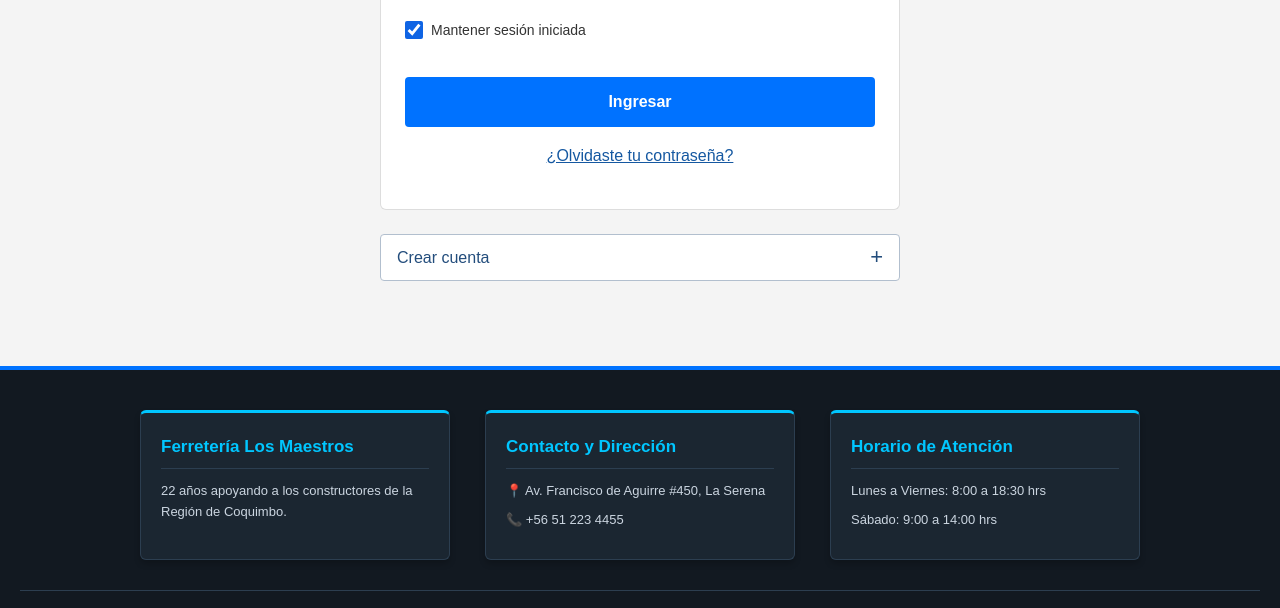
el menú público solo muestra las cinco secciones y Mi cuenta reúne ingreso y registro
(page scrolled)
expect the heading "Registrar cuenta" is not shown: met
Click the button "Crear cuenta +". click: [443, 257]
box: [380,234,900,281]
(page scrolled)
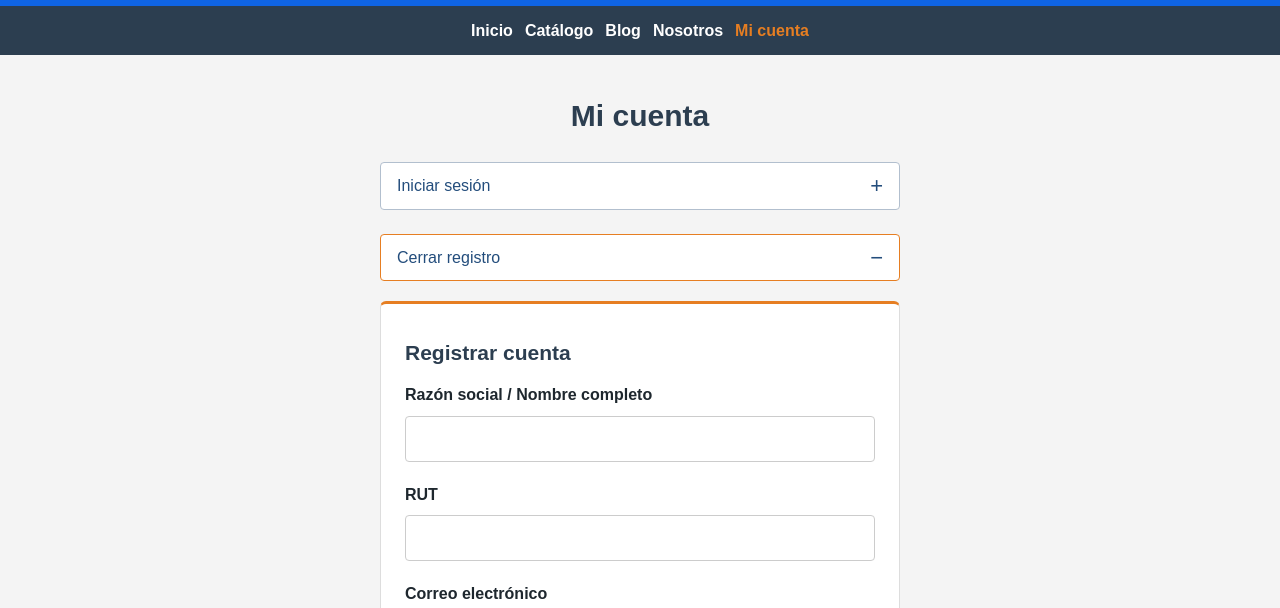
expect the heading "Registrar cuenta" is shown: met, box [405,341,571,364]
Click the button "Iniciar sesión +". click: [444, 186]
box: [380,162,900,210]
(page scrolled)
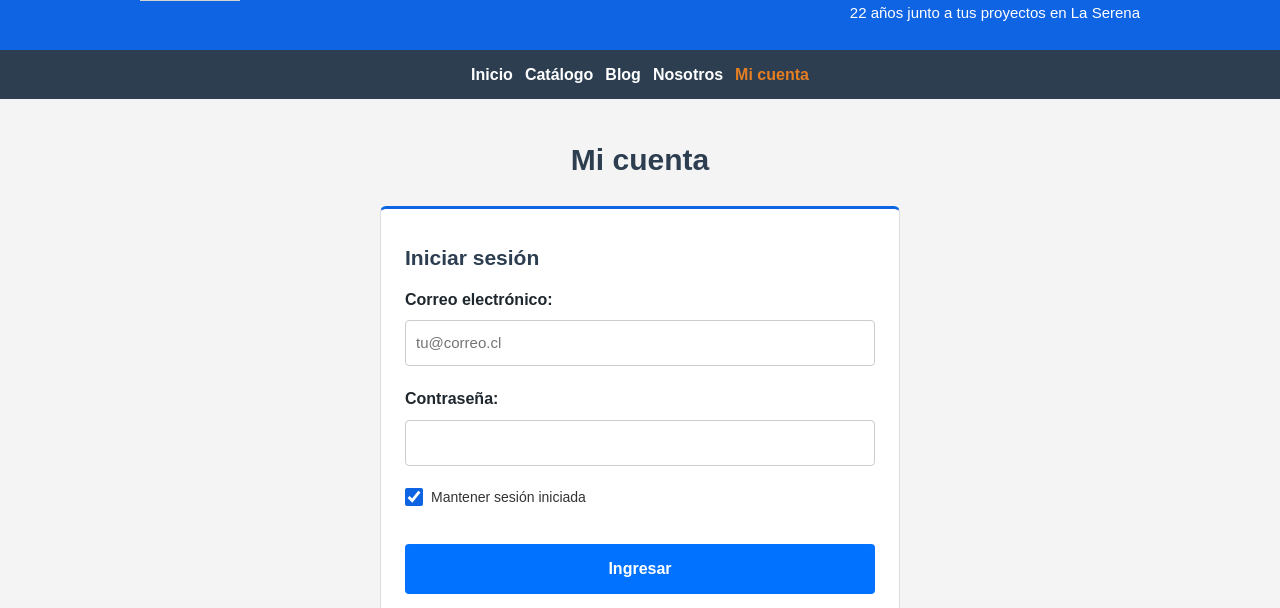
expect the heading "Iniciar sesión" is shown: met, box [405,246,539,269]
expect the heading "Registrar cuenta" is gone: met
